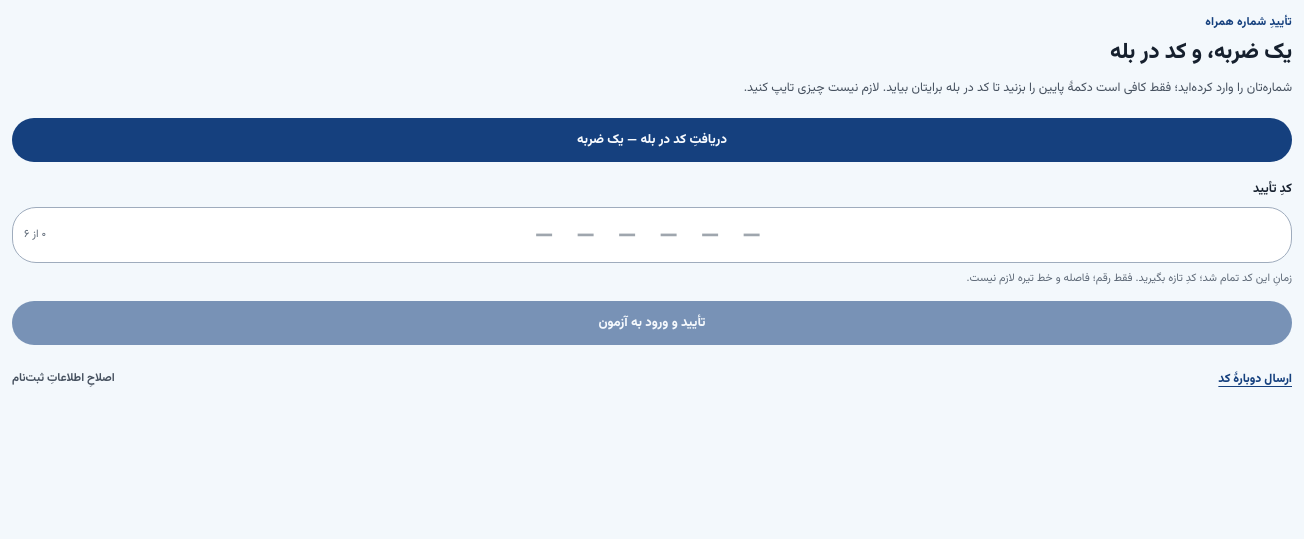
Test: OtpStep › ارسالِ دوباره کدِ تازه می‌گیرد و شمارشِ معکوس را ریست می‌کند
Expected: the text "زمانِ این کد تمام شد" is shown, x1=1136 y1=270 x2=1292 y2=287
Click the button "ارسال دوبارهٔ کد".
click(1255, 379)  # box x1=1218 y1=361 x2=1292 y2=397
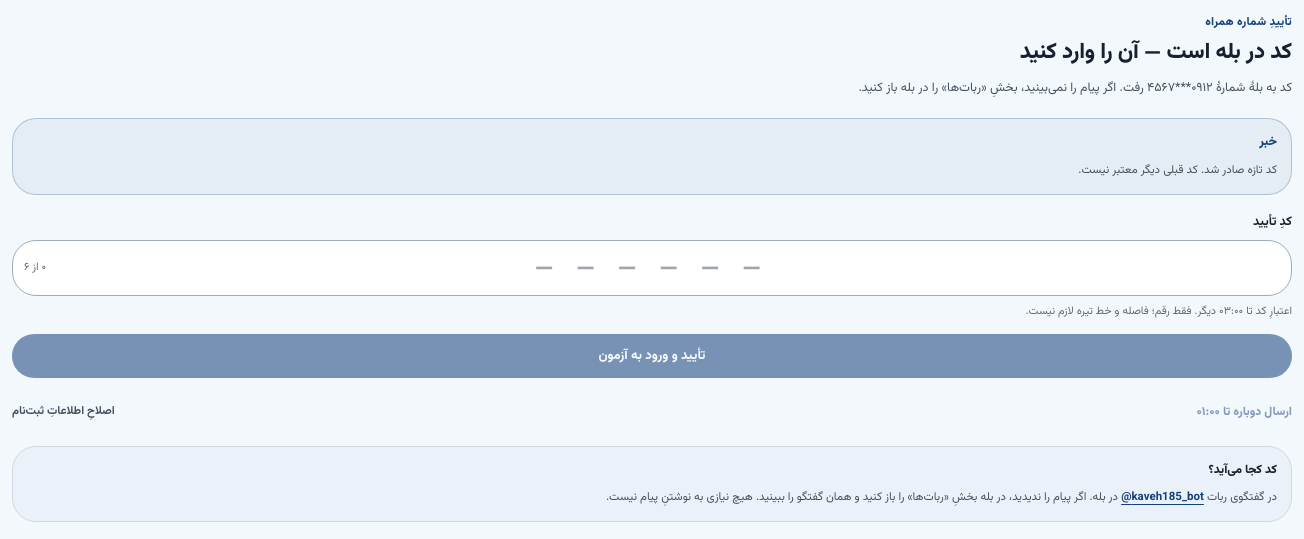
Now the text "کد تازه صادر شد. کد قبلی دیگر معتبر نیست." is shown, box x1=1078 y1=161 x2=1277 y2=179
